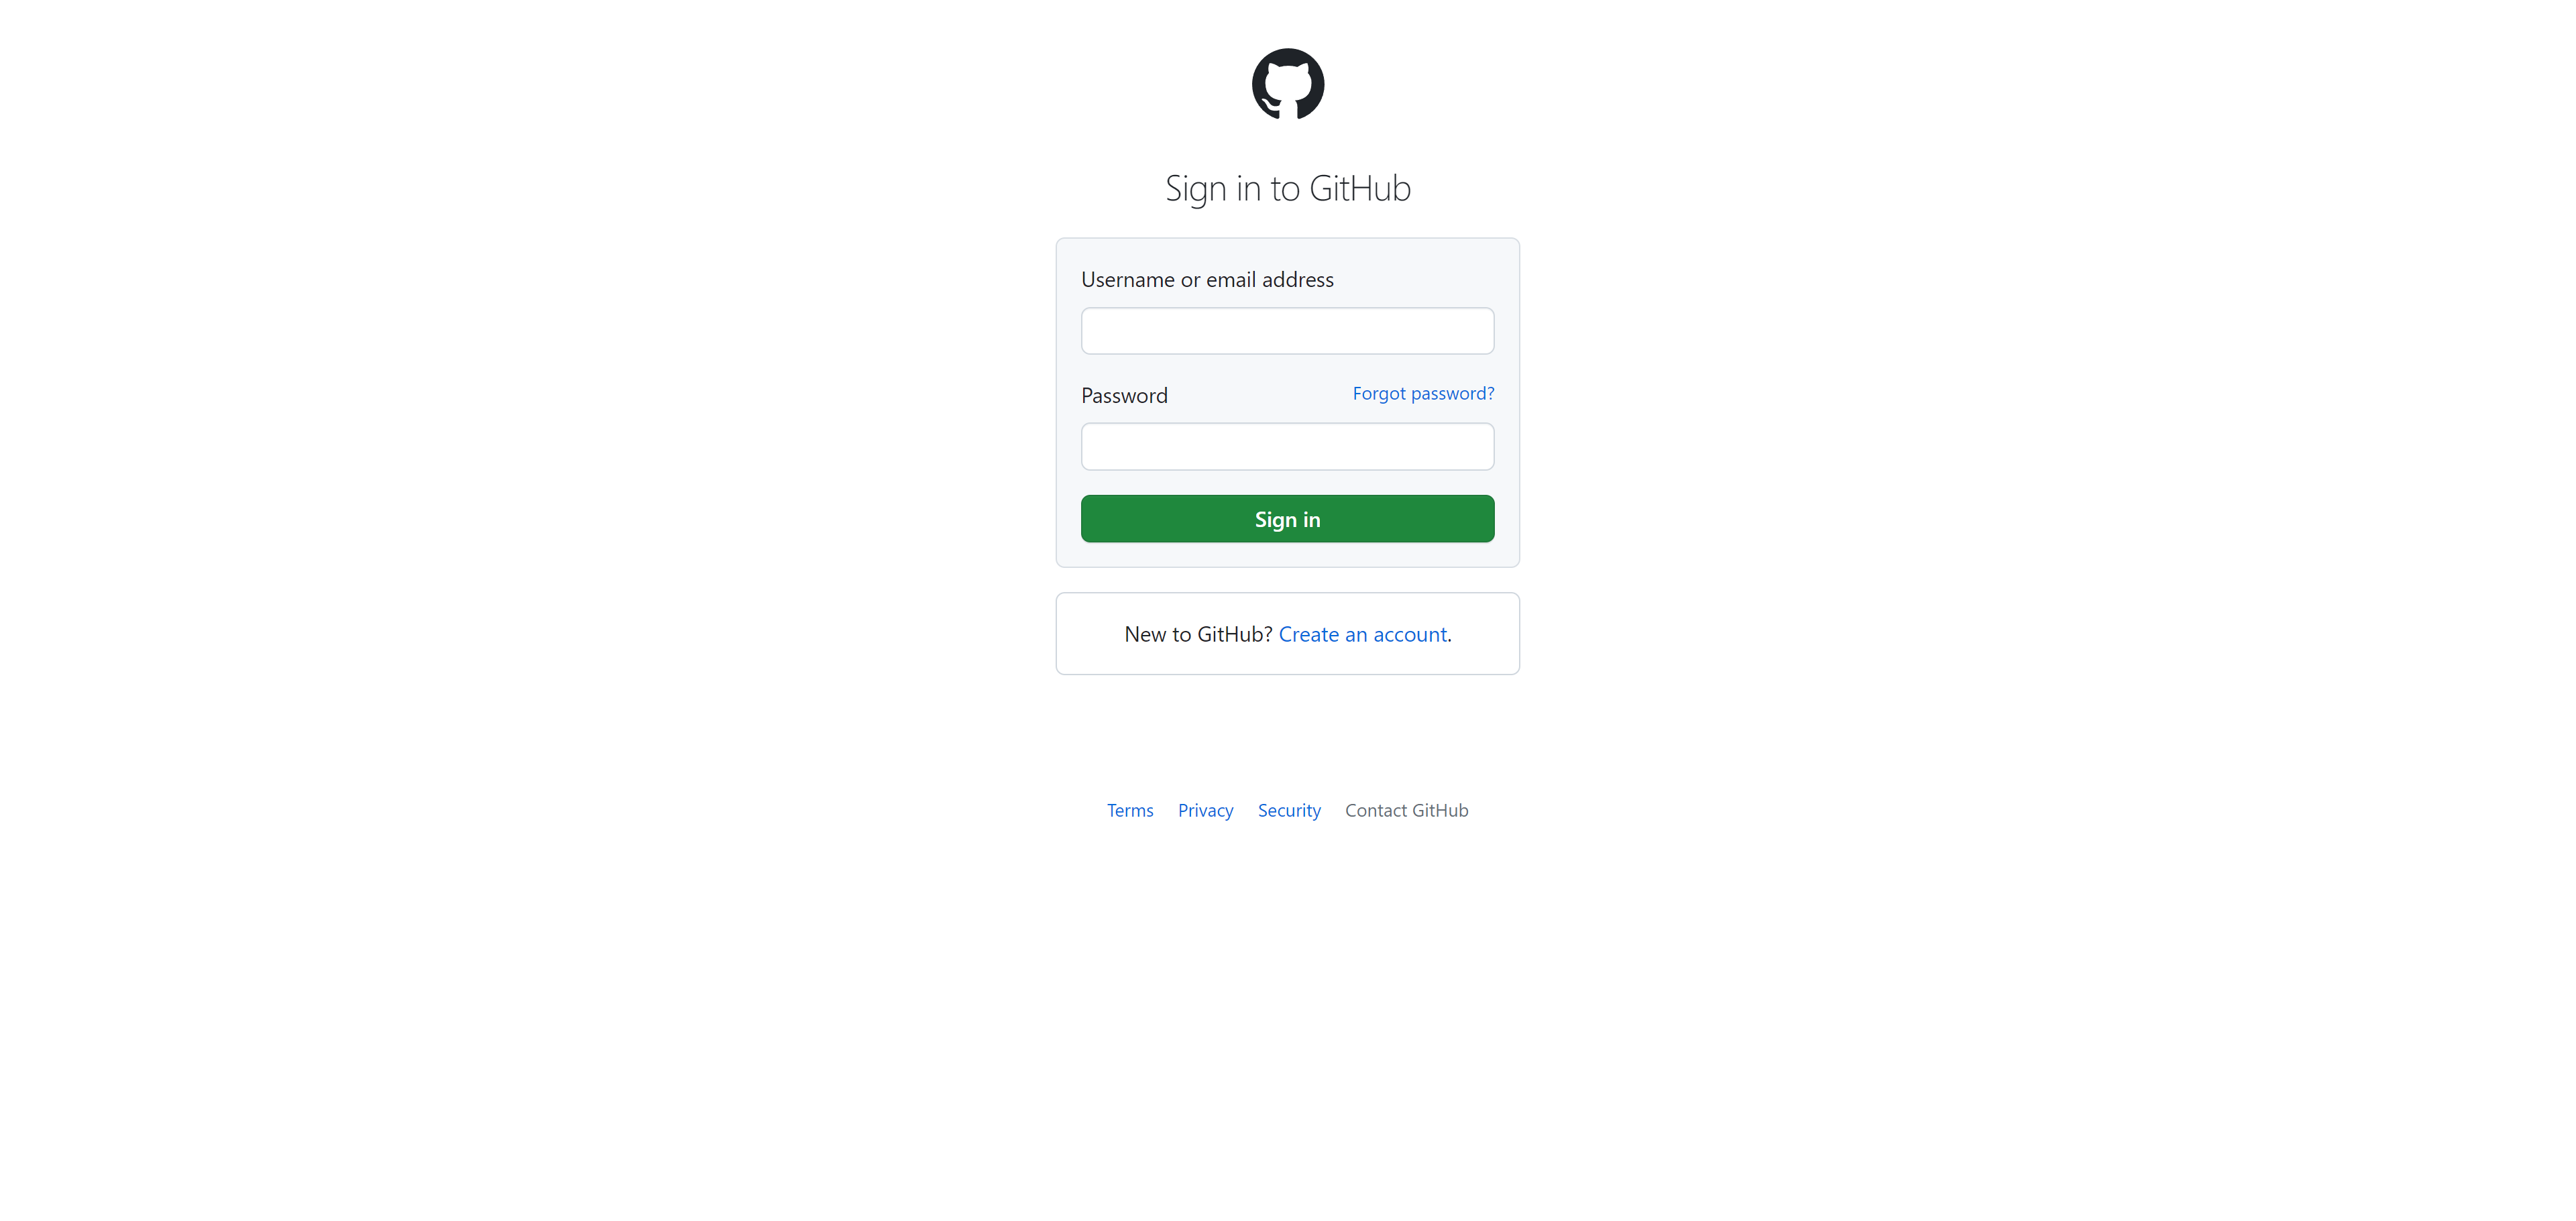login_button: (1081, 495, 1495, 542)
login_form: (1056, 237, 1520, 565)
